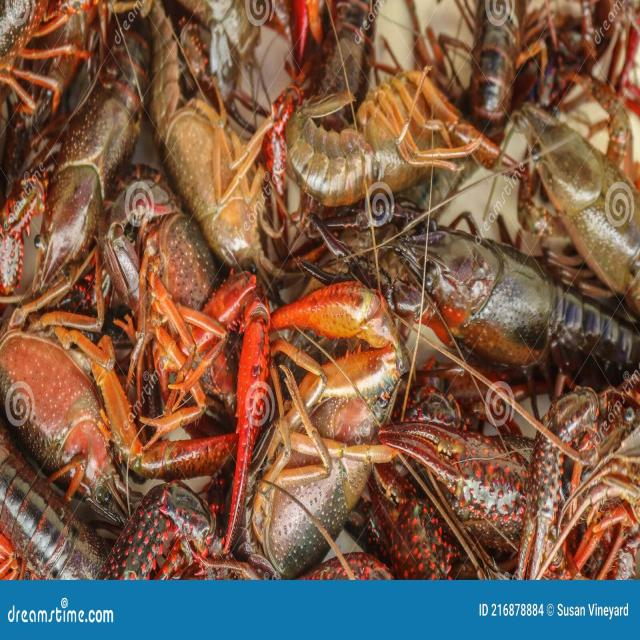Crawfish: (4, 0, 637, 577)
